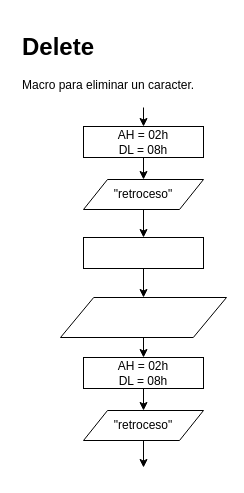
Image size: 244x493. Some labels were removed from this diagram. The centre of each missing label's shape, as x and y in pixels:
"espacio en blanco": (143,317)
AH = 02h DL = 20h: (143,252)
